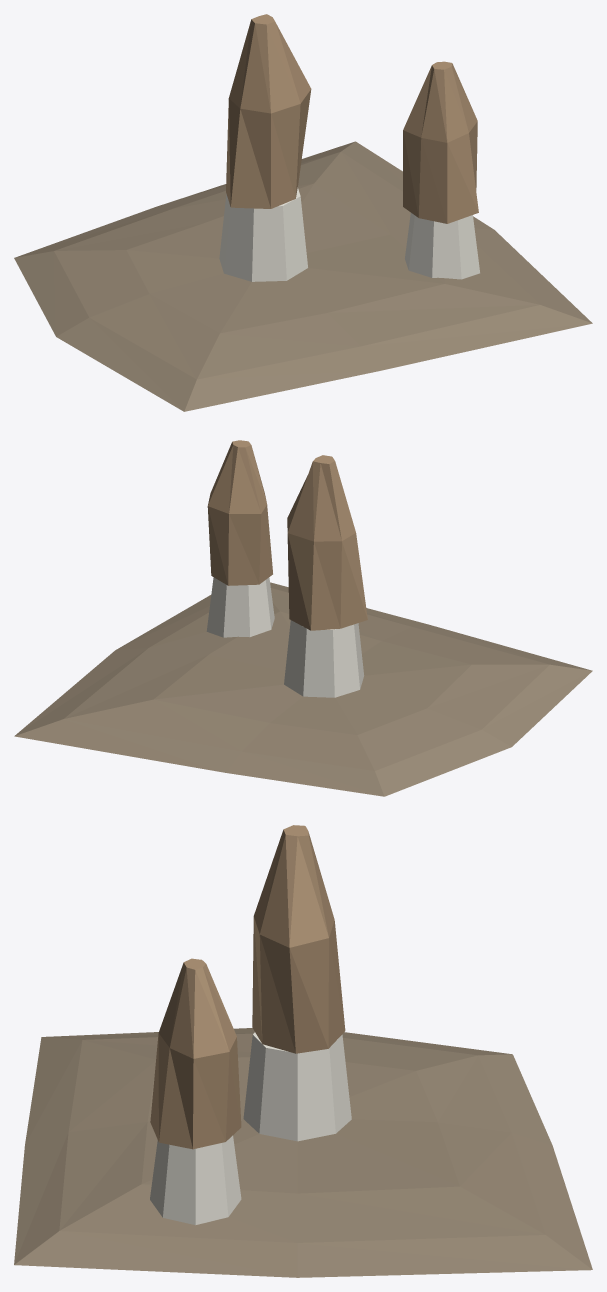
File: morel-pair.glb
3 views of the same model, one above another, from view 1: azimuth 30°, elevation 25°; view 2: azimuth 150°, elevation 25°; view 3: azimuth 270°, elevation 25° (orthographic). The views are drawn at different scales.
Parts seen in each view (by area): view 1: morel-pair; view 2: morel-pair; view 3: morel-pair.
Part boxes in pixels (left/top/right/bottom): morel-pair: left=14, top=14, right=592, bottom=411; morel-pair: left=14, top=440, right=592, bottom=796; morel-pair: left=14, top=825, right=592, bottom=1277.
Size of the model in its own units: 0.2924 by 0.17 by 0.284.
